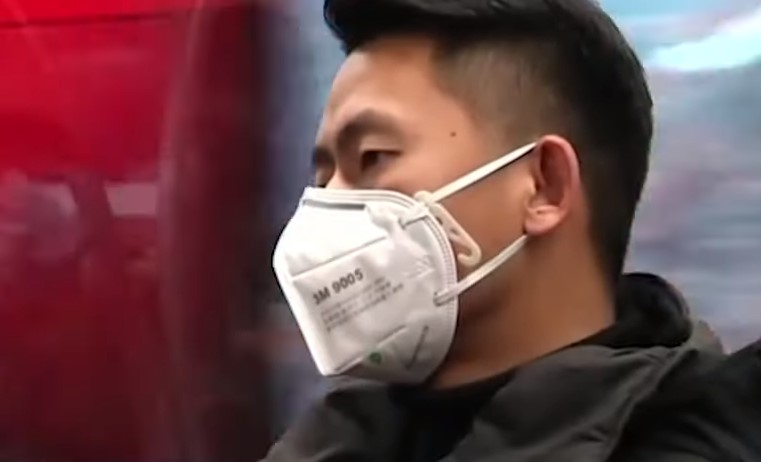face_with_mask: (271, 8, 590, 386)
